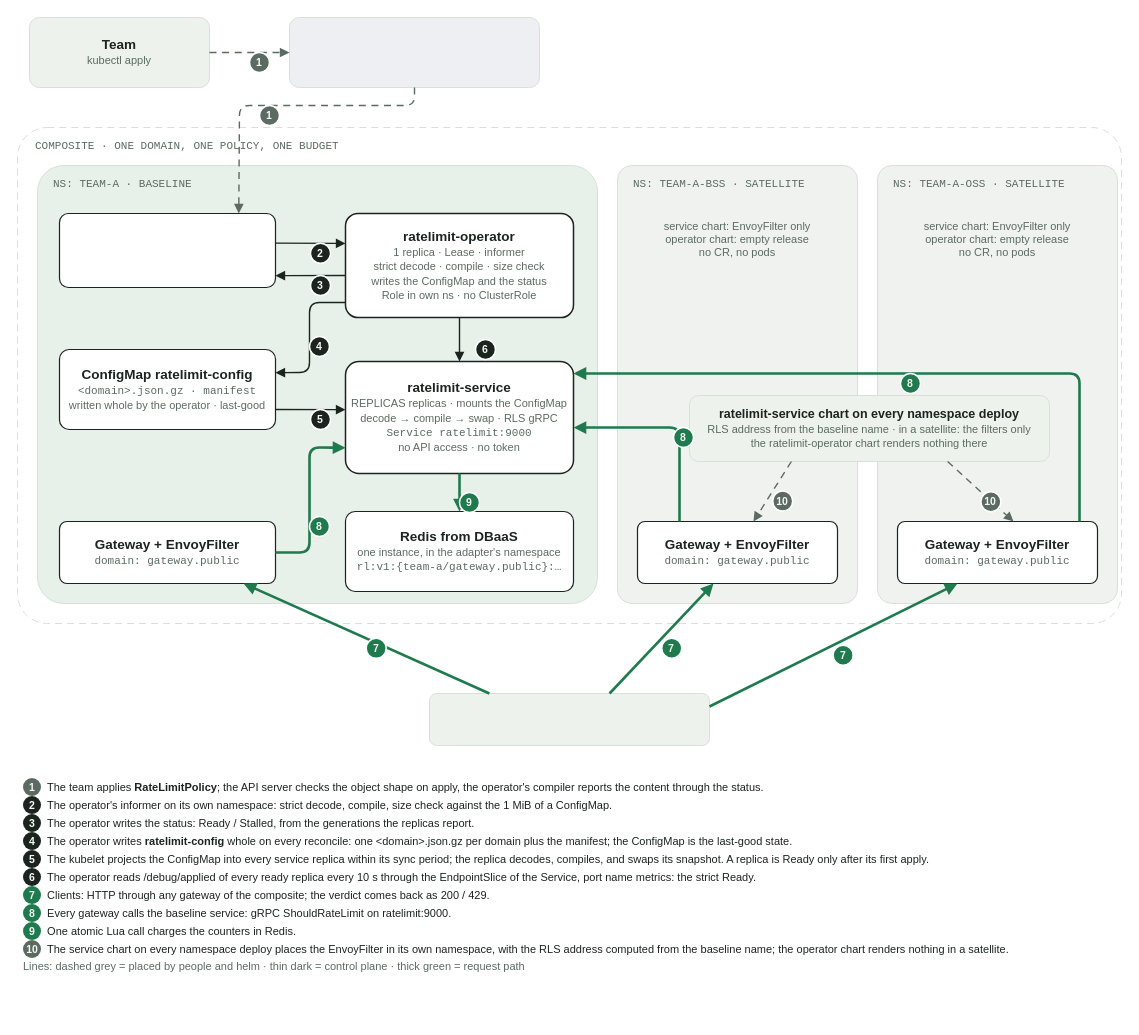
Image size: 1139x1035. Some labels were removed from this diagram. Here are the shapes that lost their labels. From the top down, the centre of each, then its label:
At pixel 414 52: "API server CRD schema: object shape the operator's compiler judges the content".
At pixel 167 250: "RateLimitPolicy mapping · groups · limits · rules name == domain · 1 per domain".
At pixel 569 719: "Clients HTTP through any composite gateway".
